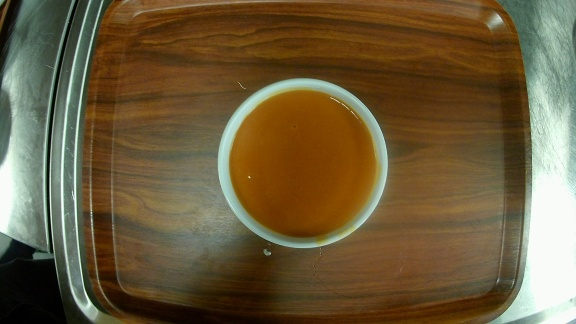domatescorba: (215, 76, 392, 251)
